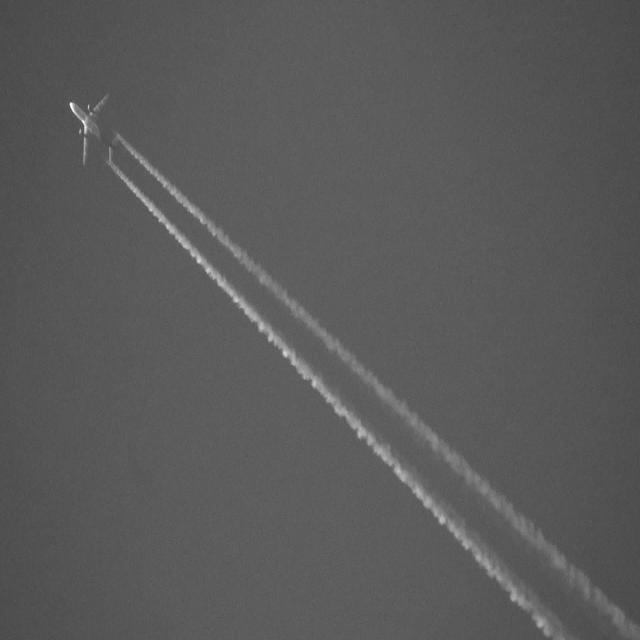aeroplane: (66, 90, 121, 168)
